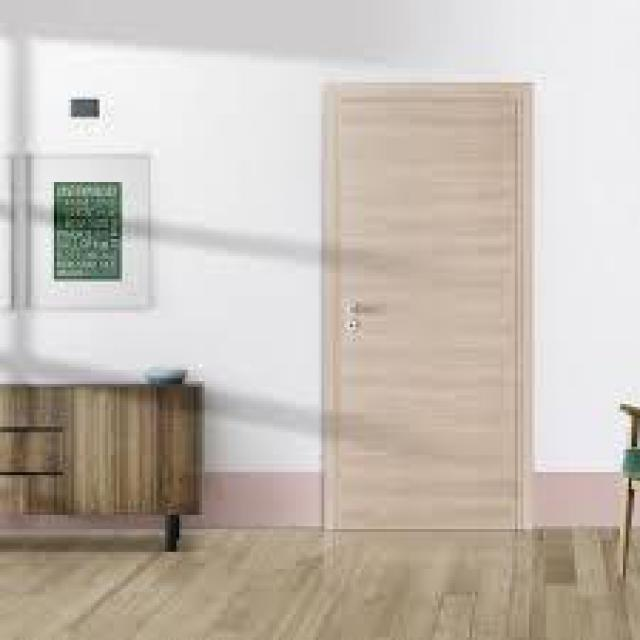close: (310, 60, 532, 552)
